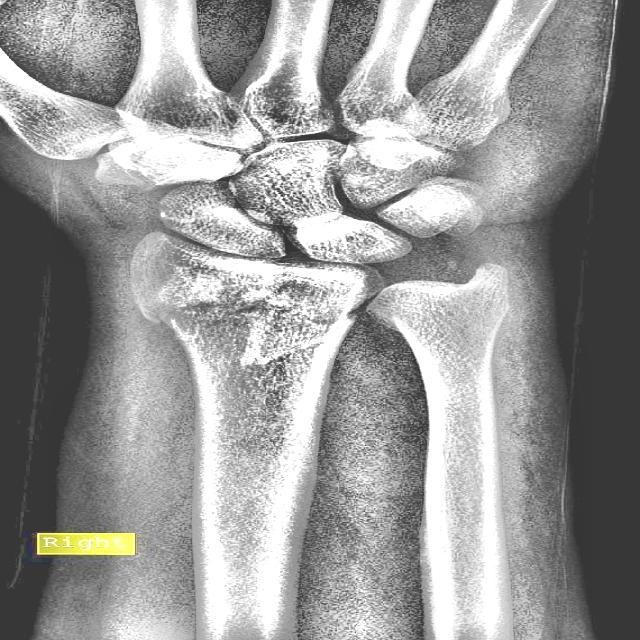fracture: (138, 302, 358, 328)
